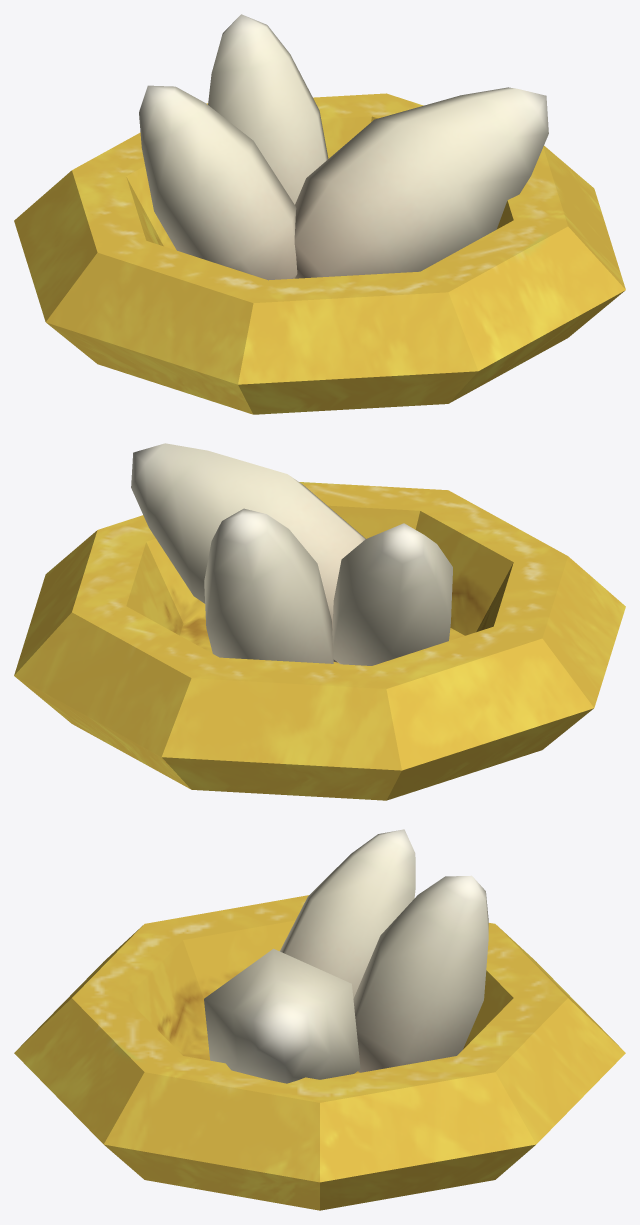
The model's file is Asset_RessBeach_Eggs.fbx.
3 renders of one model, top to bottom at view 1: azimuth 30°, elevation 25°; view 2: azimuth 150°, elevation 25°; view 3: azimuth 270°, elevation 25°, orthographic. The views are drawn at different scales.
Parts seen in each view (by area): view 1: Asset_Nid, Asset_Eggs_02, Asset_Eggs_03, Asset_Eggs_01; view 2: Asset_Nid, Asset_Eggs_02, Asset_Eggs_01, Asset_Eggs_03; view 3: Asset_Nid, Asset_Eggs_01, Asset_Eggs_02, Asset_Eggs_03.
Boxes of the visible parts, bbox=[...] form: Asset_Nid: bbox=[14, 93, 625, 414]; Asset_Eggs_02: bbox=[294, 87, 548, 278]; Asset_Eggs_03: bbox=[139, 85, 297, 280]; Asset_Eggs_01: bbox=[208, 14, 328, 204]; Asset_Nid: bbox=[14, 482, 625, 800]; Asset_Eggs_02: bbox=[131, 443, 365, 662]; Asset_Eggs_01: bbox=[204, 508, 333, 663]; Asset_Eggs_03: bbox=[332, 523, 452, 665]; Asset_Nid: bbox=[14, 895, 625, 1210]; Asset_Eggs_01: bbox=[353, 875, 488, 1072]; Asset_Eggs_02: bbox=[204, 948, 360, 1083]; Asset_Eggs_03: bbox=[280, 829, 415, 998].
Bounding box in the file's own units: 37.69 × 15.63 × 37.69.
